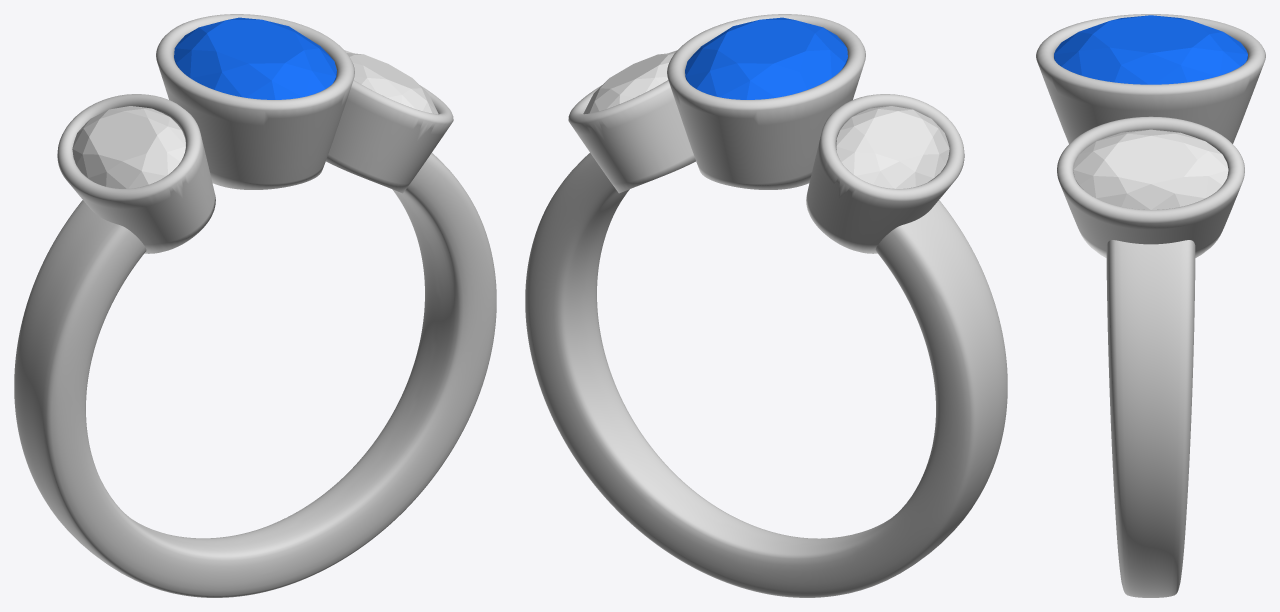
The model's file is bluesapphire-oval-platinum-bezelset-straighttaperedband-3stone.glb.
3 views of the same model, side by side, from view 1: azimuth 30°, elevation 25°; view 2: azimuth 150°, elevation 25°; view 3: azimuth 270°, elevation 25° (orthographic).
Parts seen in each view (by area): view 1: metal, stone.002, side.004, side.005; view 2: metal, stone.002, side.004, side.005; view 3: metal, stone.002, side.005.
Boxes of the visible parts, box(x1,y1,x2,y2) form: metal: box(14, 14, 496, 597); stone.002: box(174, 17, 336, 99); side.004: box(72, 106, 185, 188); side.005: box(347, 52, 438, 114); metal: box(525, 14, 1007, 597); stone.002: box(685, 17, 847, 99); side.004: box(836, 106, 949, 188); side.005: box(583, 52, 674, 114); metal: box(1036, 14, 1265, 597); stone.002: box(1054, 15, 1247, 84); side.005: box(1073, 129, 1228, 209).
Bounding box in the file's own units: 20.5 × 23.41 × 9.04.
